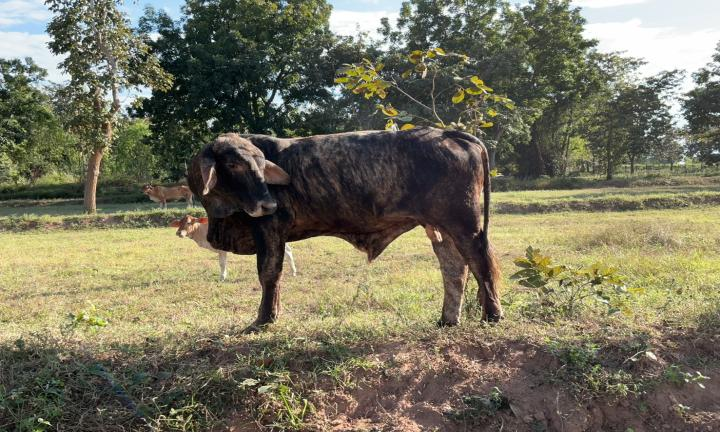Charolais: (188, 127, 502, 331)
